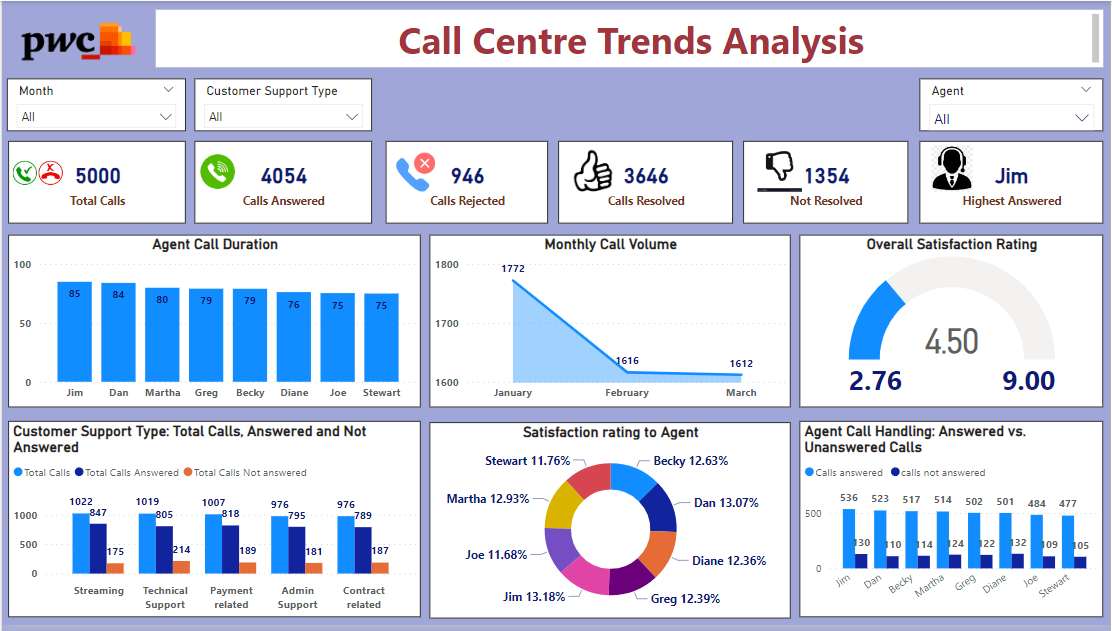

What the dashboard file says about the page in this screenshot:
{"tool":"powerbi","page":{"name":"Overall Analysis","canvas":[1280,720],"ordinal":0},"visuals":[{"type":"textbox","box":[177.5,10.1,1093.6,66.4],"z":0},{"type":"card","fields":{"Values":["Call Centre Records.Calls answered"]},"box":[222.2,161.6,204.9,95.2],"z":1000},{"type":"card","fields":{"Values":["Call Centre Records.calls not answered"]},"box":[442.9,161.6,187.6,95.2],"z":2000},{"type":"image","box":[427.1,170.2,101,54.8],"z":3000},{"type":"card","fields":{"Values":["Call Centre Records.Total Calls"]},"box":[7.2,161.6,204.9,95.2],"z":4000},{"type":"image","box":[212.1,168.8,73.6,56.3],"z":5000},{"type":"image","box":[7.2,165.9,67.8,64.9],"z":6000},{"type":"card","fields":{"Values":["Call Centre Records.Calls resolved"]},"box":[642,161.6,202,95.2],"z":7000},{"type":"card","fields":{"Values":["Call Centre Records.Calls not resolved"]},"box":[855.6,161.6,190.4,95.2],"z":8000},{"type":"image","box":[640.6,161.6,83.7,69.2],"z":9000},{"type":"image","box":[844,160.2,106.8,64.9],"z":10000},{"type":"card","fields":{"Values":["Call Centre Records.Agent"]},"box":[1059,161.6,212.1,95.2],"z":13000},{"type":"clusteredColumnChart","title":"Customer Support Type: Total Calls, Answered and Not Answered","fields":{"Category":["Call Centre Records.Topic"],"Y":["Call Centre Records.Total Calls","Call Centre Records.Total Calls Answered","Call Centre Records.Total Calls Not answered"]},"box":[7.2,484.8,476.1,226.5],"z":14000},{"type":"columnChart","title":"Agent Call Duration","fields":{"Category":["Call Centre Records.Agent"],"Y":["Call Centre Records.Duration of calls"]},"box":[7.2,269.8,476.1,199.1],"z":15000},{"type":"areaChart","title":"Monthly Call Volume","fields":{"Y":["Call Centre Records.Total Calls"],"Category":["Call Centre Records.Date.Variation.Date Hierarchy.Month"]},"box":[493.4,269.8,417,199.1],"z":16000},{"type":"slicer","fields":{"Values":["Call Centre Records.Date.Variation.Date Hierarchy.Month"]},"box":[5.8,89.5,206.3,60.6],"z":17000},{"type":"gauge","title":"Overall Satisfaction Rating","fields":{"Y":["Call Centre Records.Target value satisfaction"],"MinValue":["Call Centre Records.Satisfaction rating"]},"box":[920.5,269.8,350.6,199.1],"z":18000},{"type":"clusteredColumnChart","title":"Agent Call Handling: Answered vs. Unanswered Calls","fields":{"Category":["Call Centre Records.Agent"],"Y":["Call Centre Records.Calls answered","Call Centre Records.calls not answered"]},"box":[920.5,484.8,350.6,226.5],"z":19000},{"type":"image","box":[0,4.3,177.5,85.1],"z":20000},{"type":"donutChart","title":"Satisfaction rating to Agent","fields":{"Y":["Call Centre Records.Satisfaction rating"],"Series":["Call Centre Records.Agent"]},"box":[493.4,486.2,417,226.5],"z":21000},{"type":"image","box":[1022.9,161.6,147.2,63.5],"z":22000},{"type":"slicer","fields":{"Values":["Call Centre Records.Topic"]},"box":[222.2,89.5,204.9,60.6],"z":23000},{"type":"slicer","fields":{"Values":["Call Centre Records.Agent"]},"box":[1059,89.5,212.1,60.6],"z":24000}]}

Visuals, with their boxes in screenshot pixels (x1, y1, x2, y2), scaled from the page's 1280x720 canvas onto the 1112x631 screenshot:
textbox: l=154, t=9, r=1104, b=67
card - Call Centre Records.Calls answered: l=193, t=142, r=371, b=225
card - Call Centre Records.calls not answered: l=385, t=142, r=548, b=225
image: l=371, t=149, r=459, b=197
card - Call Centre Records.Total Calls: l=6, t=142, r=184, b=225
image: l=184, t=148, r=248, b=197
image: l=6, t=145, r=65, b=202
card - Call Centre Records.Calls resolved: l=558, t=142, r=733, b=225
card - Call Centre Records.Calls not resolved: l=743, t=142, r=909, b=225
image: l=557, t=142, r=629, b=202
image: l=733, t=140, r=826, b=197
card - Call Centre Records.Agent: l=920, t=142, r=1104, b=225
"Customer Support Type: Total Calls, Answered and Not Answered" clusteredColumnChart: l=6, t=425, r=420, b=623
"Agent Call Duration" columnChart: l=6, t=236, r=420, b=411
"Monthly Call Volume" areaChart: l=429, t=236, r=791, b=411
slicer - Call Centre Records.Date.Variation.Date Hierarchy.Month: l=5, t=78, r=184, b=132
"Overall Satisfaction Rating" gauge: l=800, t=236, r=1104, b=411
"Agent Call Handling: Answered vs. Unanswered Calls" clusteredColumnChart: l=800, t=425, r=1104, b=623
image: l=0, t=4, r=154, b=78
"Satisfaction rating to Agent" donutChart: l=429, t=426, r=791, b=625
image: l=889, t=142, r=1017, b=197
slicer - Call Centre Records.Topic: l=193, t=78, r=371, b=132
slicer - Call Centre Records.Agent: l=920, t=78, r=1104, b=132
